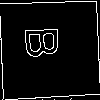B: (24, 24, 67, 60)
